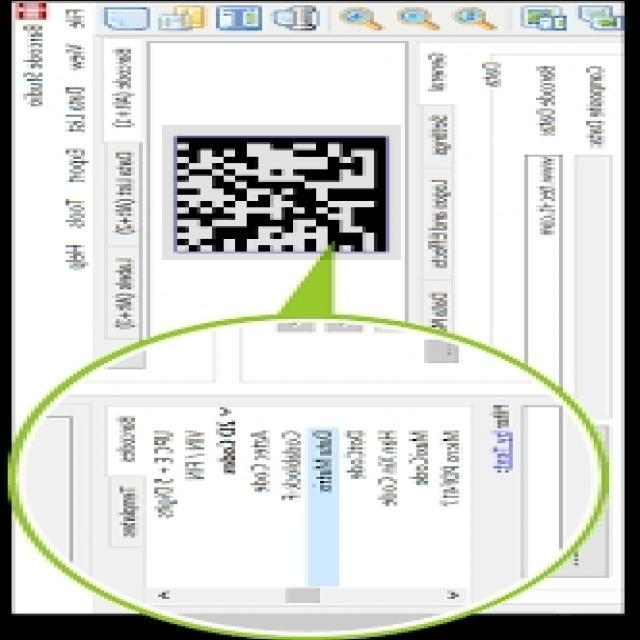Data-Matrix: (162, 124, 401, 259)
